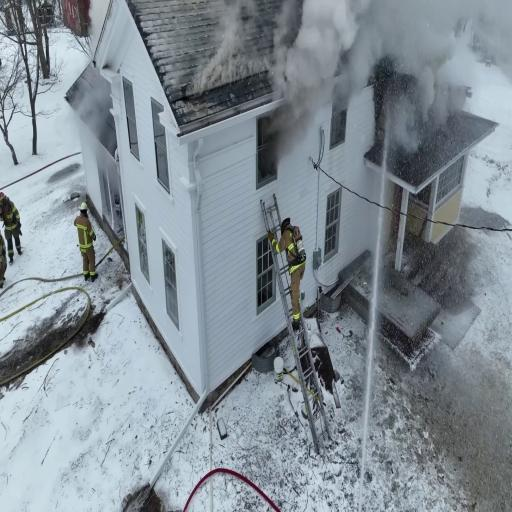smoke: (320, 0, 463, 55)
